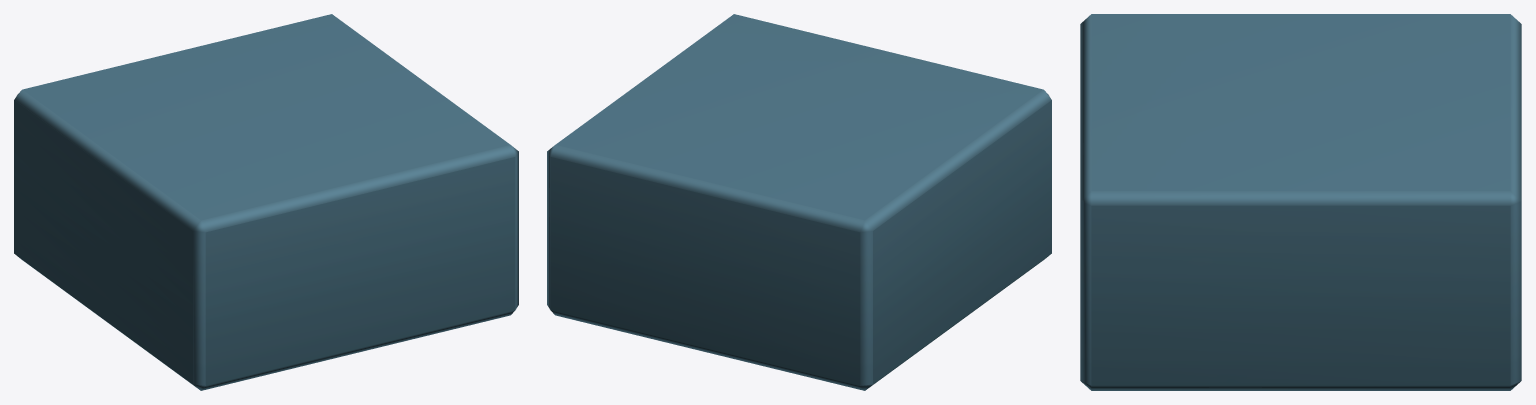
File: cube_06_hue_5.fbx
3 views of the same model, side by side, from view 1: azimuth 30°, elevation 25°; view 2: azimuth 150°, elevation 25°; view 3: azimuth 270°, elevation 25° (orthographic). The views are drawn at different scales.
Visible parts, largest first — view 1: cube_06_hue_5; view 2: cube_06_hue_5; view 3: cube_06_hue_5.
Boxes of the visible parts, x1,y1,x2,y2 form: cube_06_hue_5: [14, 14, 518, 390]; cube_06_hue_5: [547, 14, 1051, 390]; cube_06_hue_5: [1080, 14, 1521, 390].
Bounding box in the file's own units: 200 × 100 × 200.
1 material, 1 textured.
